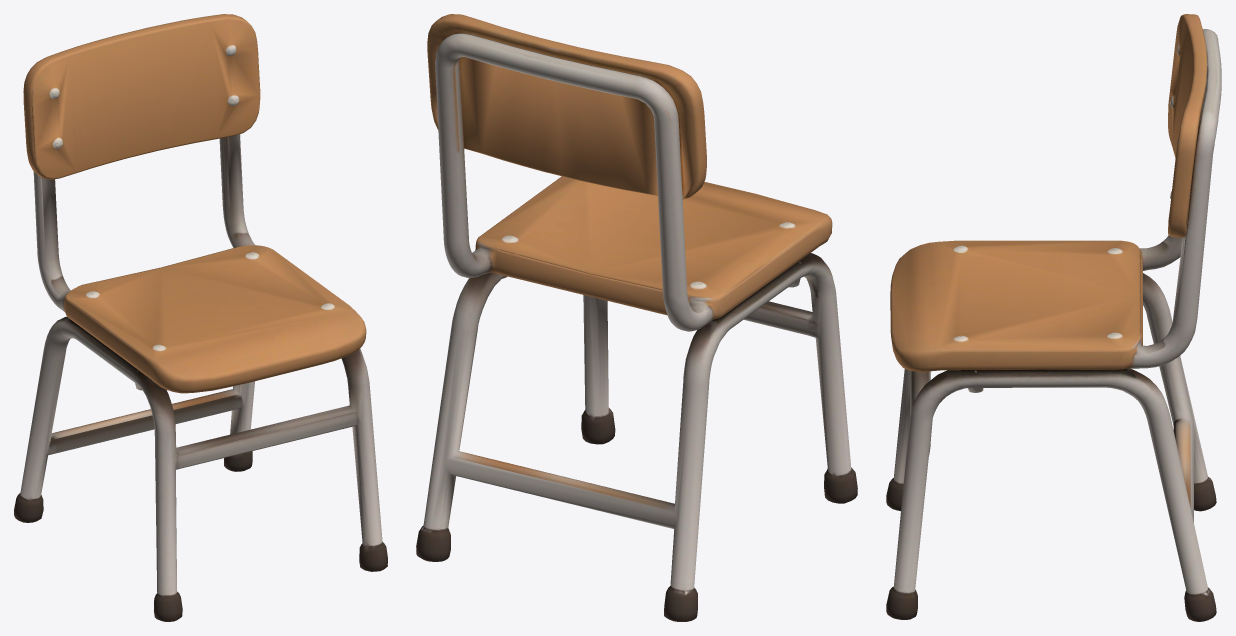
Rendered from Furniture__school_chair_realistic_style_760df96d_v3.cluster.glb.
3 views of the same model, side by side, from view 1: azimuth 30°, elevation 25°; view 2: azimuth 150°, elevation 25°; view 3: azimuth 270°, elevation 25° (orthographic). The views are drawn at different scales.
Parts seen in each view (by area): view 1: texture_pbr_20250901; view 2: texture_pbr_20250901; view 3: texture_pbr_20250901.
Boxes of the visible parts, x1=… form: texture_pbr_20250901: x1=14, y1=14, x2=387, y2=621; texture_pbr_20250901: x1=416, y1=14, x2=857, y2=621; texture_pbr_20250901: x1=886, y1=14, x2=1221, y2=621.
Size of the model in its own units: 1.02 by 1.9 by 1.16.
1 material, 1 textured.
